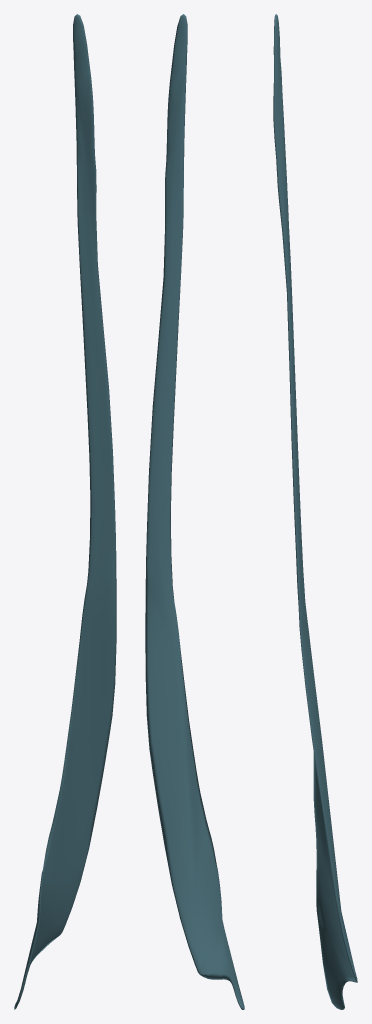
The model's file is Biceps_femoris_short_head_lateral_lip_linea_aspera_right.glb.
3 renders of one model, left to right at view 1: azimuth 30°, elevation 25°; view 2: azimuth 210°, elevation 25°; view 3: azimuth 270°, elevation 25°, orthographic. The views are drawn at different scales.
Parts seen in each view (by area): view 1: Short_head_of_biceps_femoris_on_lateral_lip_of_linea_aspera.; view 2: Short_head_of_biceps_femoris_on_lateral_lip_of_linea_aspera.; view 3: Short_head_of_biceps_femoris_on_lateral_lip_of_linea_aspera..
Boxes of the visible parts, x1,y1,x2,y2 form: Short_head_of_biceps_femoris_on_lateral_lip_of_linea_aspera.: (14,14,116,1009); Short_head_of_biceps_femoris_on_lateral_lip_of_linea_aspera.: (145,14,244,1009); Short_head_of_biceps_femoris_on_lateral_lip_of_linea_aspera.: (273,14,357,1009).
Bounding box in the file's own units: 0.0182 × 0.1972 × 0.015.
